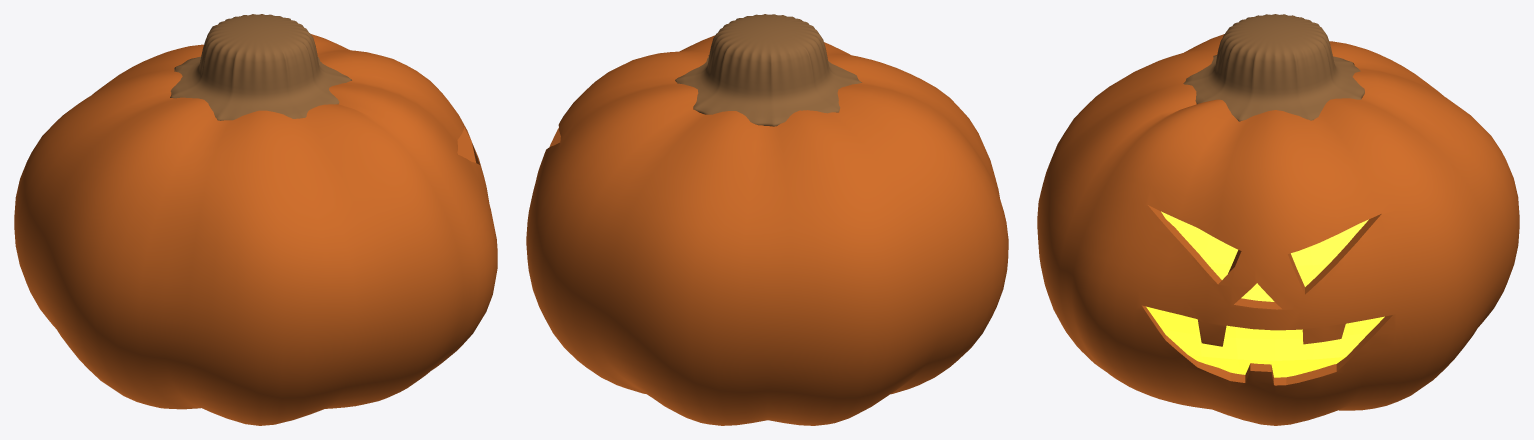
File: jackolantern.glb
3 renders of one model, left to right at view 1: azimuth 30°, elevation 25°; view 2: azimuth 150°, elevation 25°; view 3: azimuth 270°, elevation 25°, orthographic.
Visible parts, largest first — view 1: PumpkinBase, Stem; view 2: PumpkinBase, Stem; view 3: PumpkinBase, Stem, PseudoLight.
Part boxes in pixels (<box>): PumpkinBase: <box>14,34,497,425</box>; Stem: <box>170,14,351,120</box>; PumpkinBase: <box>526,35,1008,425</box>; Stem: <box>675,14,861,126</box>; PumpkinBase: <box>1037,34,1519,425</box>; Stem: <box>1183,14,1364,121</box>; PseudoLight: <box>1146,211,1384,377</box>.
Size of the model in its own units: 5.5 by 4.34 by 5.45.
